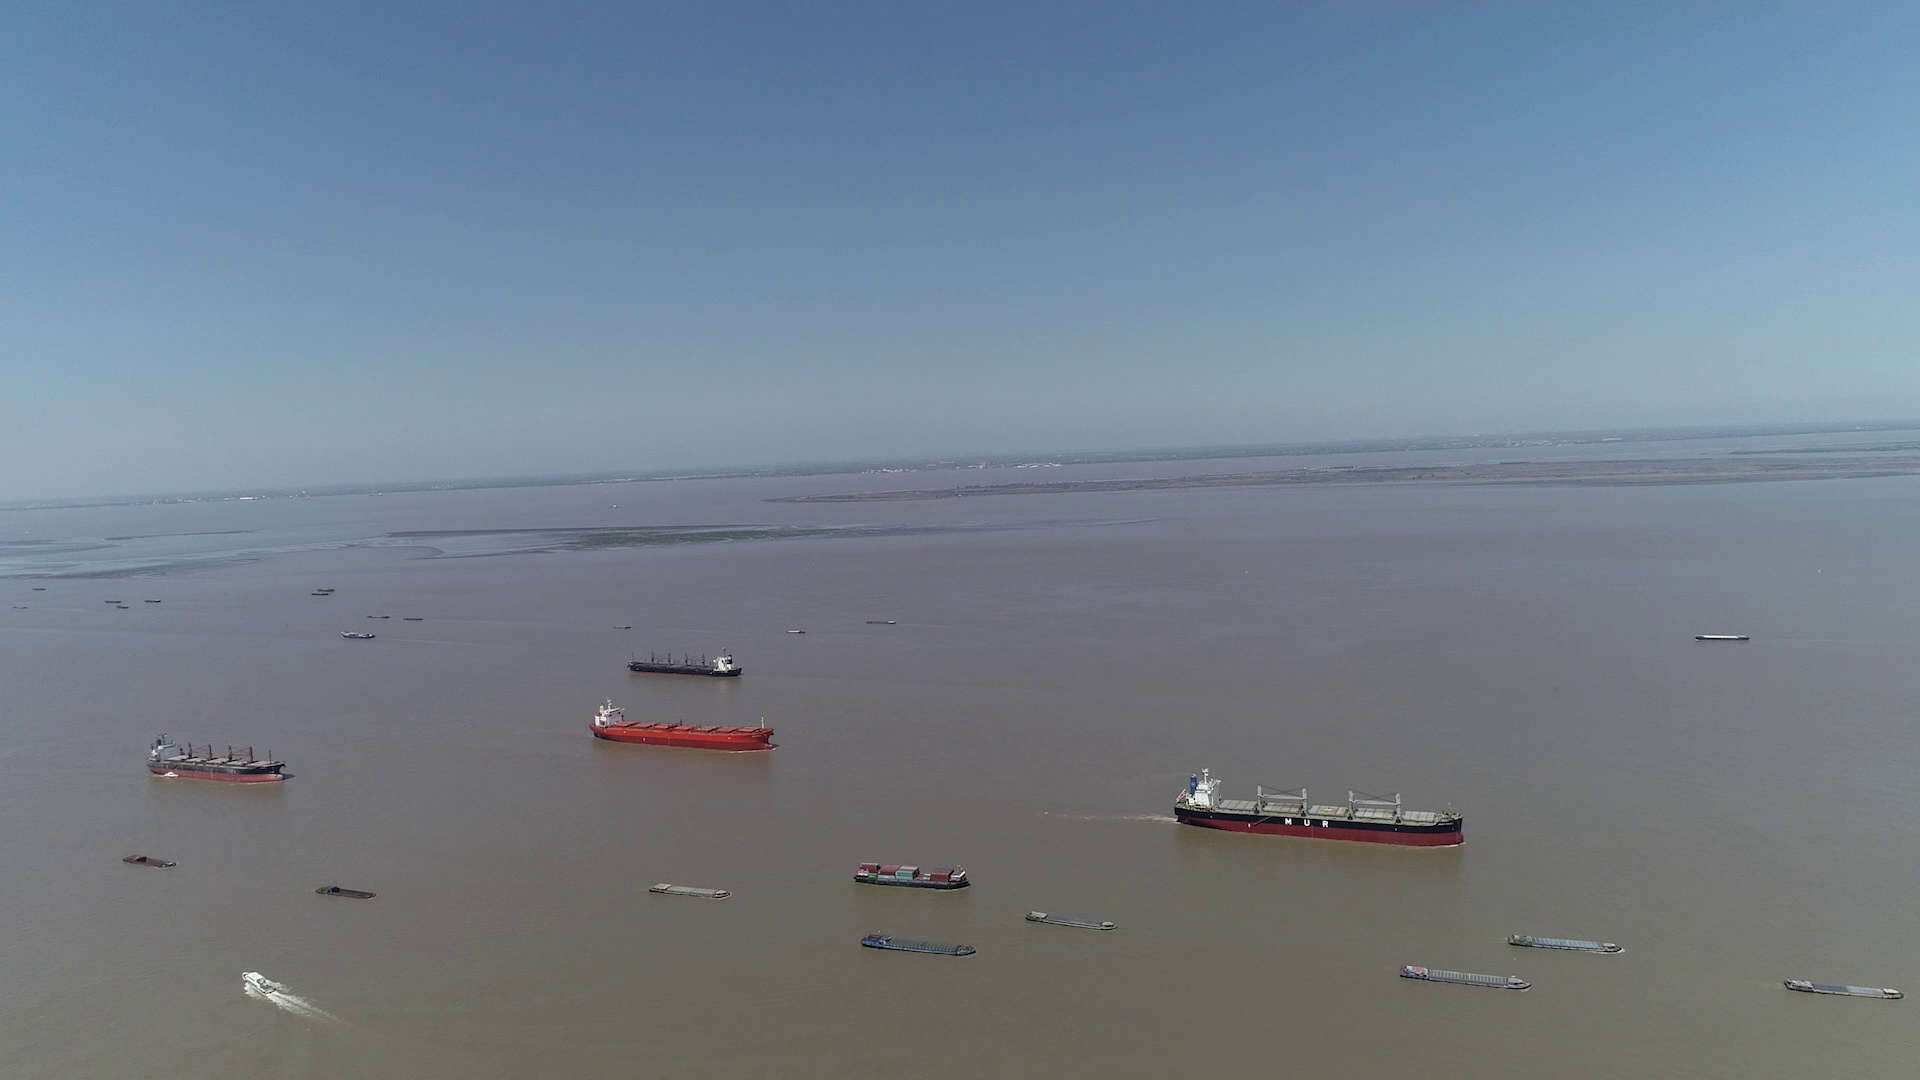ship: (1174, 767, 1465, 847), (591, 700, 775, 750), (150, 731, 287, 785), (1399, 964, 1528, 992), (853, 862, 967, 889), (629, 650, 741, 676), (1785, 977, 1905, 1000), (861, 932, 978, 955), (1507, 934, 1619, 953), (1025, 910, 1117, 931), (647, 881, 732, 899), (315, 886, 376, 899), (123, 855, 175, 866), (244, 971, 272, 990), (1695, 633, 1749, 641), (343, 632, 376, 640)
